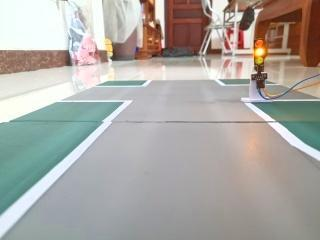yellow: (247, 33, 278, 73)
